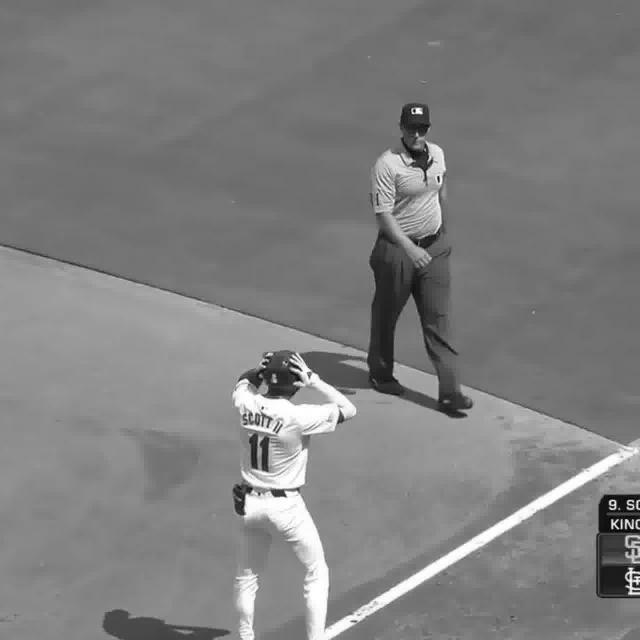shoe: (436, 386, 478, 414), (369, 370, 410, 390)
